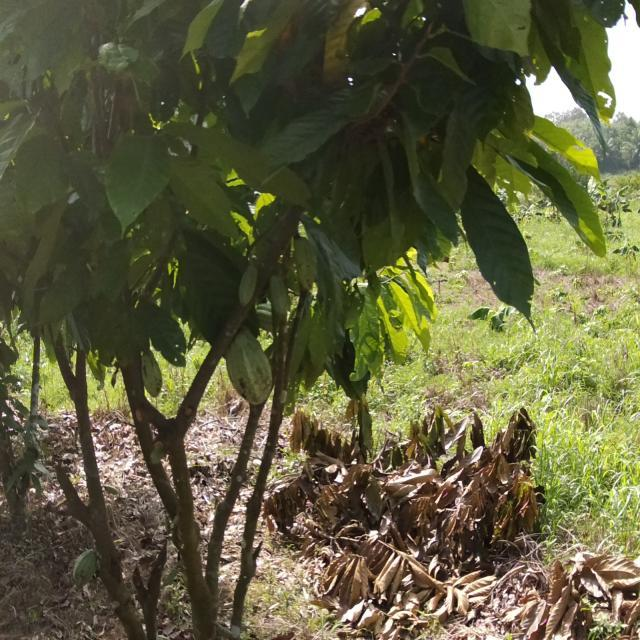Immature: (233, 258, 301, 323), (290, 226, 322, 288)
Mature_Unripe: (227, 321, 279, 417), (67, 538, 107, 590)
